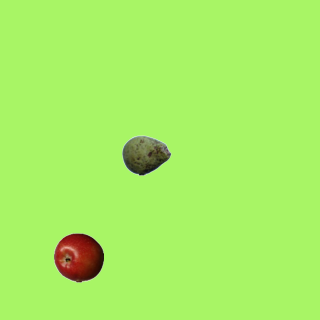Apple Braeburn: (53, 232, 103, 282)
Pear Stone: (121, 130, 171, 180)
